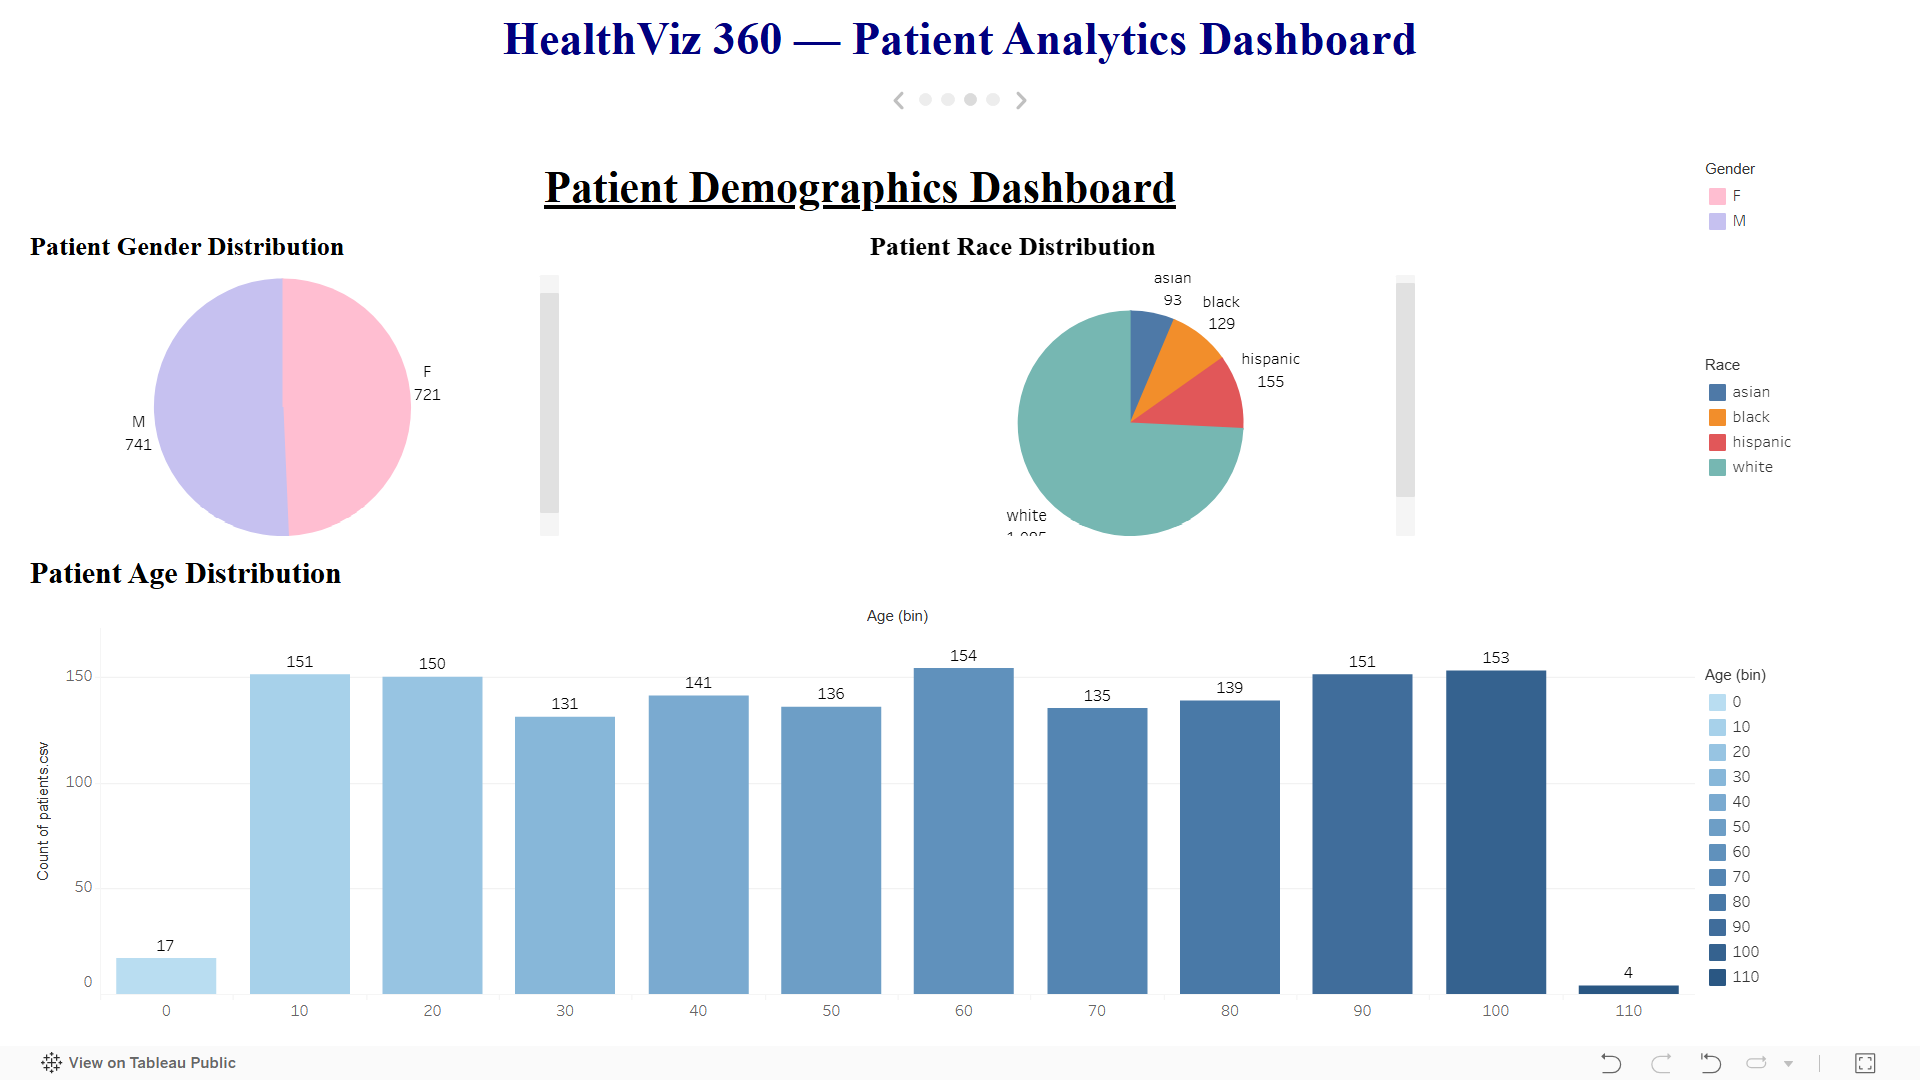

This screenshot's page, from the dashboard's own definition file:
{"tool":"tableau","page":{"name":"Dashboard 3","canvas":[1000,1000],"units":"permille","ordinal":2},"visuals":[{"type":"title","box":[4.7,10,896.9,74.9]},{"type":"legend","title":"Sheet 5","param":"[federated.1s975s01o6mm161decxeo1ua0y47].[none:gender:nk]","box":[901.6,10,93.7,196]},{"type":"worksheet","title":"Sheet 5","mark":"Pie","box":[4.7,84.9,448.4,362]},{"type":"worksheet","title":"Sheet 6","mark":"Pie","box":[453.1,84.9,448.4,362]},{"type":"legend","title":"Sheet 6","param":"[federated.1s975s01o6mm161decxeo1ua0y47].[none:race:nk]","box":[901.6,206,93.7,309.6]},{"type":"worksheet","title":"Sheet 7","mark":"Bar","rows":["patients.csv_2B8F79C6B5FB4D249F336309DB4F311B"],"cols":["Age (bin)"],"box":[4.7,446.9,896.9,543.1]},{"type":"legend","title":"Sheet 7","param":"[federated.1s975s01o6mm161decxeo1ua0y47].[none:Age (bin):ok]","box":[901.6,515.6,93.7,474.4]}]}

Visuals, with their boxes on the dashboard's canvas, which has no fixed pixel size, in thousandths of its width and height (x1, y1, x2, y2). These are canvas units, not pixel positions in the 1920x1080 screenshot, which may show the page scaled, cropped or inside an application window:
title: x1=5 y1=10 x2=902 y2=85
"Sheet 5" legend: x1=902 y1=10 x2=995 y2=206
"Sheet 5" worksheet (Pie marks): x1=5 y1=85 x2=453 y2=447
"Sheet 6" worksheet (Pie marks): x1=453 y1=85 x2=902 y2=447
"Sheet 6" legend: x1=902 y1=206 x2=995 y2=516
"Sheet 7" worksheet (Bar marks): x1=5 y1=447 x2=902 y2=990
"Sheet 7" legend: x1=902 y1=516 x2=995 y2=990
